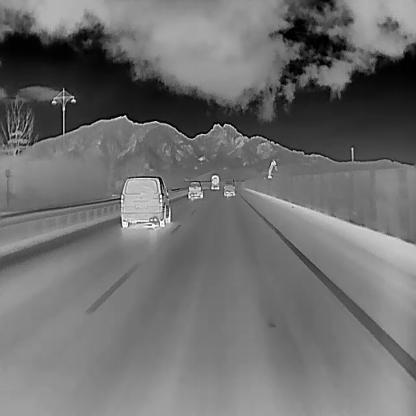car: (119, 174, 171, 227), (187, 180, 203, 199), (222, 176, 235, 197)
truck: (209, 172, 219, 190)
